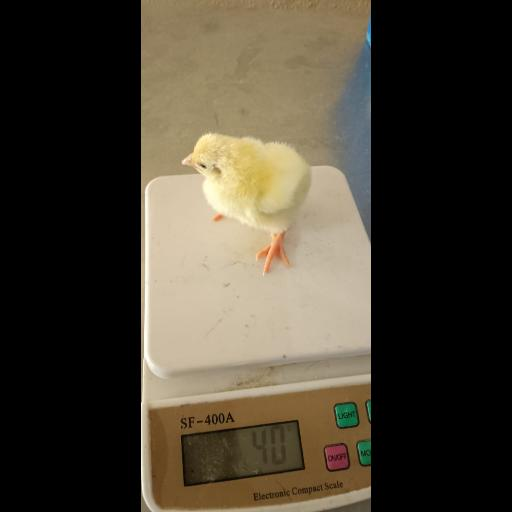chick: (181, 134, 312, 274)
